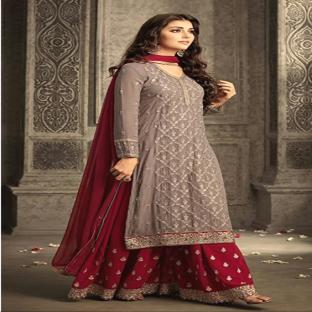Human: (52, 14, 271, 303)
